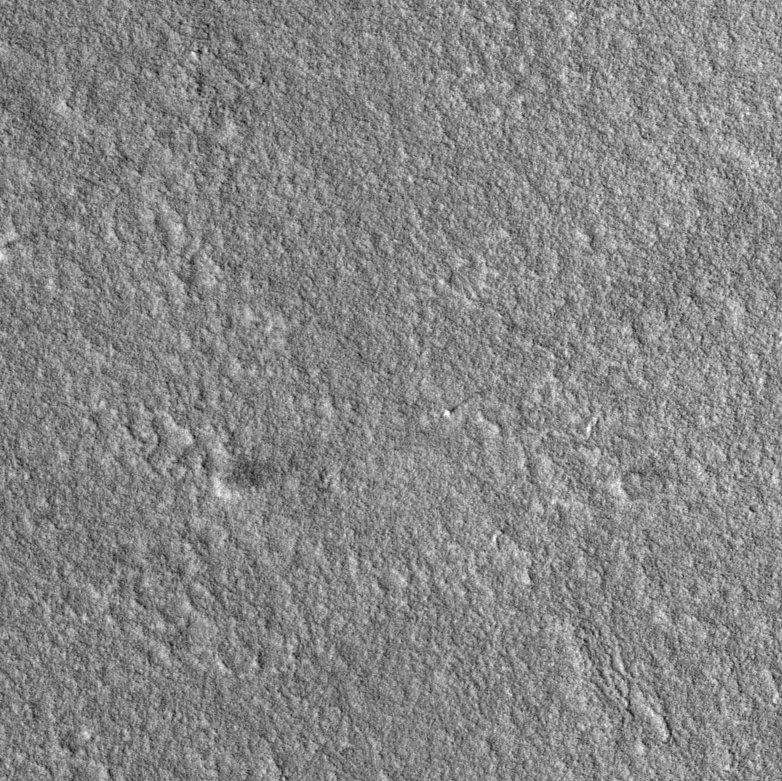dust_devil: (212, 458, 279, 499), (442, 386, 492, 418)
